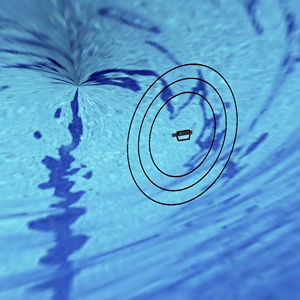circle: (120, 48, 251, 221)
submarine: (164, 124, 198, 147)
